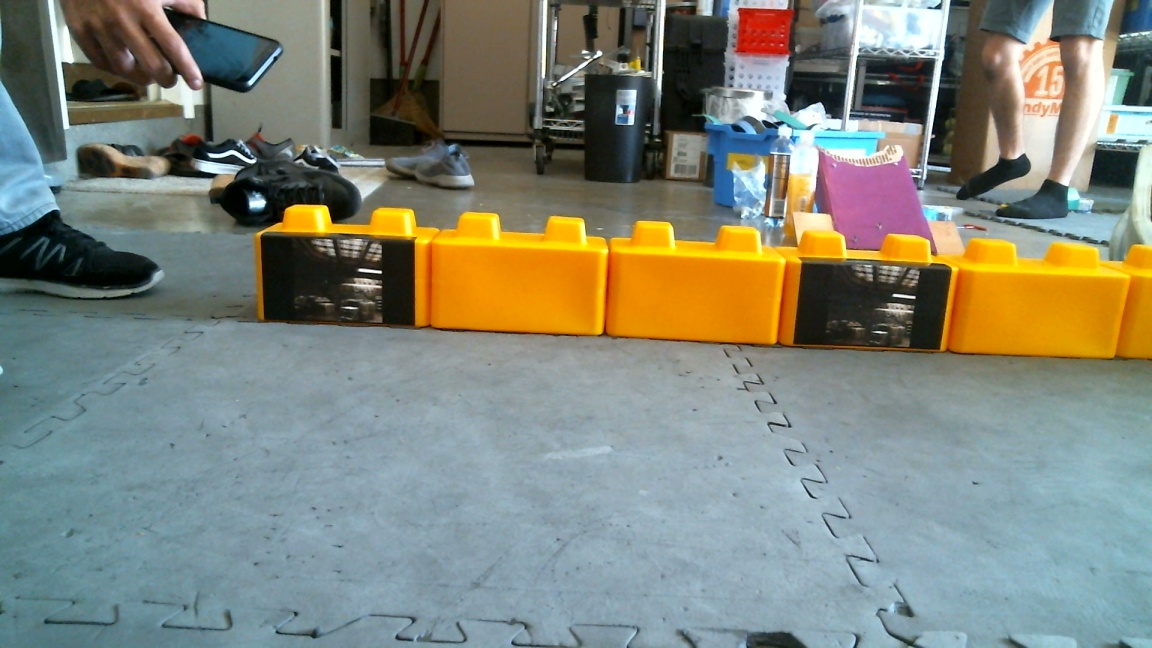center: (609, 228, 1126, 354)
left: (254, 226, 780, 331), (780, 239, 1150, 356)
right: (428, 216, 943, 353)
